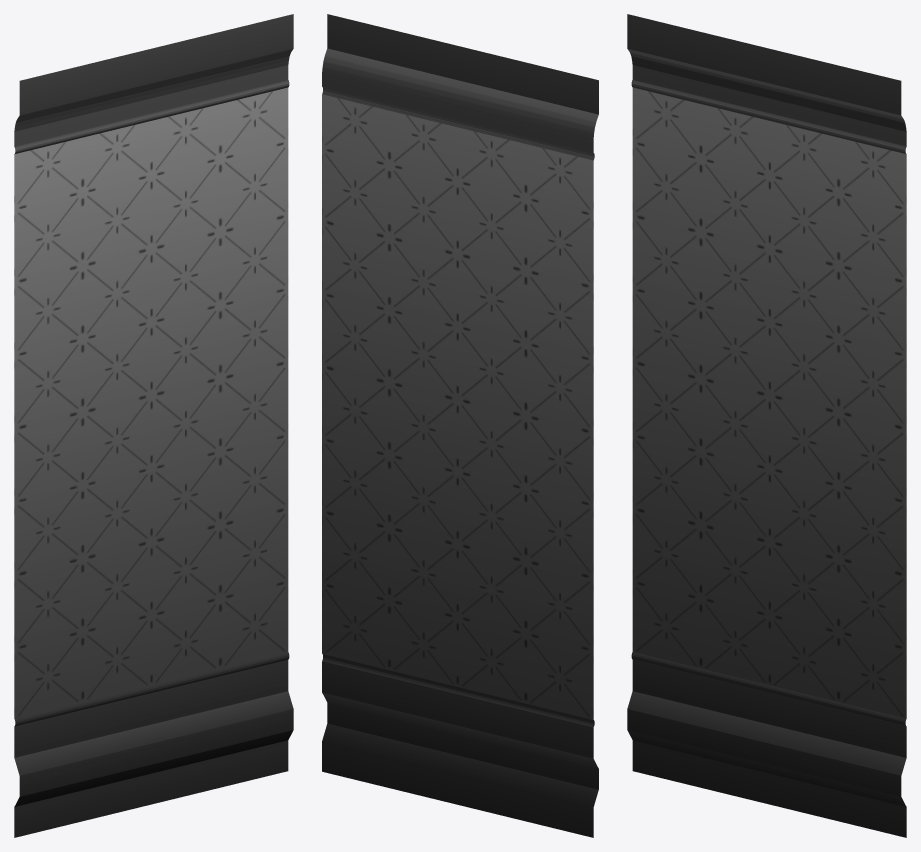
The model's file is Wall_02_Single_Dark.fbx.
3 renders of one model, left to right at view 1: azimuth 30°, elevation 25°; view 2: azimuth 150°, elevation 25°; view 3: azimuth 330°, elevation 25°, orthographic.
Parts seen in each view (by area): view 1: Wall_02_Single_Dark; view 2: Wall_02_Single_Dark; view 3: Wall_02_Single_Dark.
Boxes of the visible parts, <box> form: Wall_02_Single_Dark: <box>14,14,293,837</box>; Wall_02_Single_Dark: <box>322,14,598,837</box>; Wall_02_Single_Dark: <box>627,14,906,837</box>.
Bounding box in the file's own units: 0.9999 × 2.65 × 0.0329.
